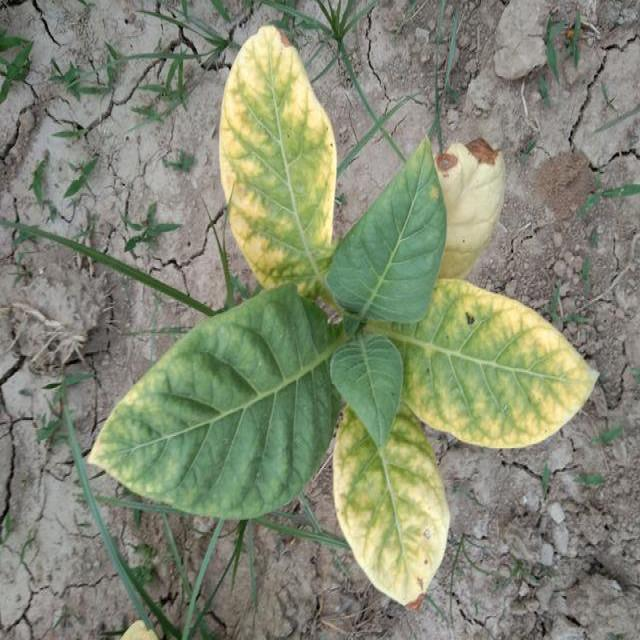crop: (99, 32, 596, 583)
